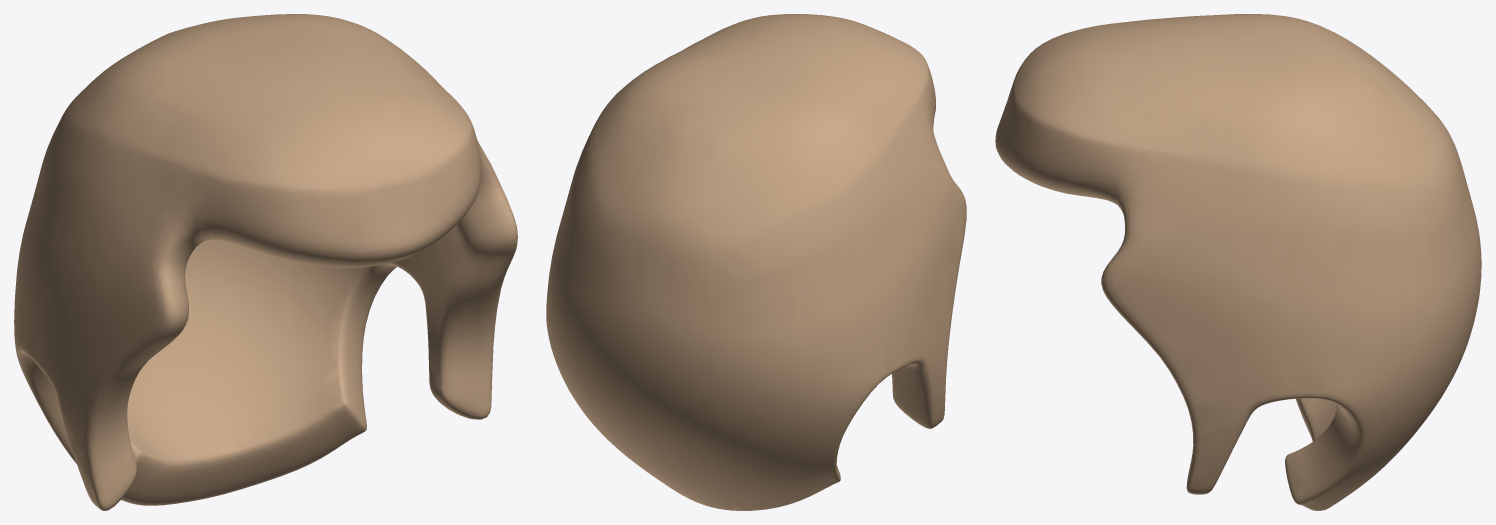
The model's file is hair-3-0adafe2c.glb.
3 renders of one model, left to right at view 1: azimuth 30°, elevation 25°; view 2: azimuth 150°, elevation 25°; view 3: azimuth 270°, elevation 25°, orthographic. The views are drawn at different scales.
Visible parts, largest first — view 1: Geo_White_Old_Male_Hair_3.001; view 2: Geo_White_Old_Male_Hair_3.001; view 3: Geo_White_Old_Male_Hair_3.001.
Boxes of the visible parts, box(x1,y1,x2,y2) form: Geo_White_Old_Male_Hair_3.001: box(14, 14, 517, 510); Geo_White_Old_Male_Hair_3.001: box(546, 14, 966, 510); Geo_White_Old_Male_Hair_3.001: box(995, 14, 1481, 510).
Size of the model in its own units: 1.38 by 1.56 by 1.54.
